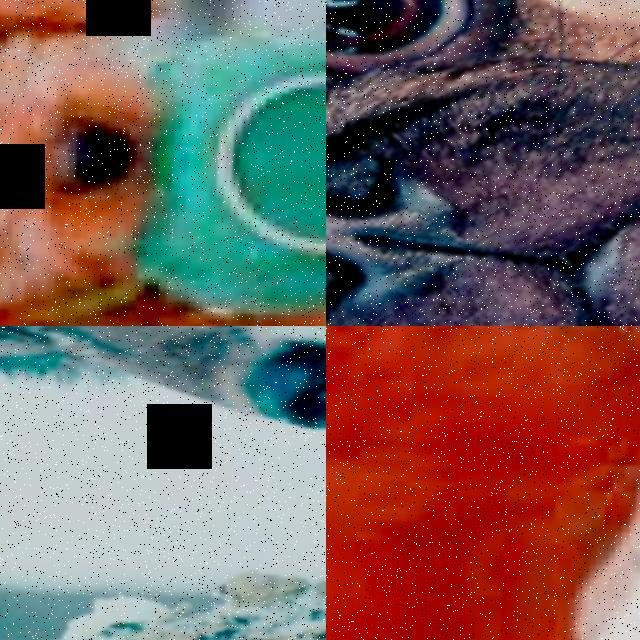dog: (0, 0, 326, 326), (326, 0, 640, 326), (326, 326, 640, 640)
wolf: (0, 326, 326, 613)
